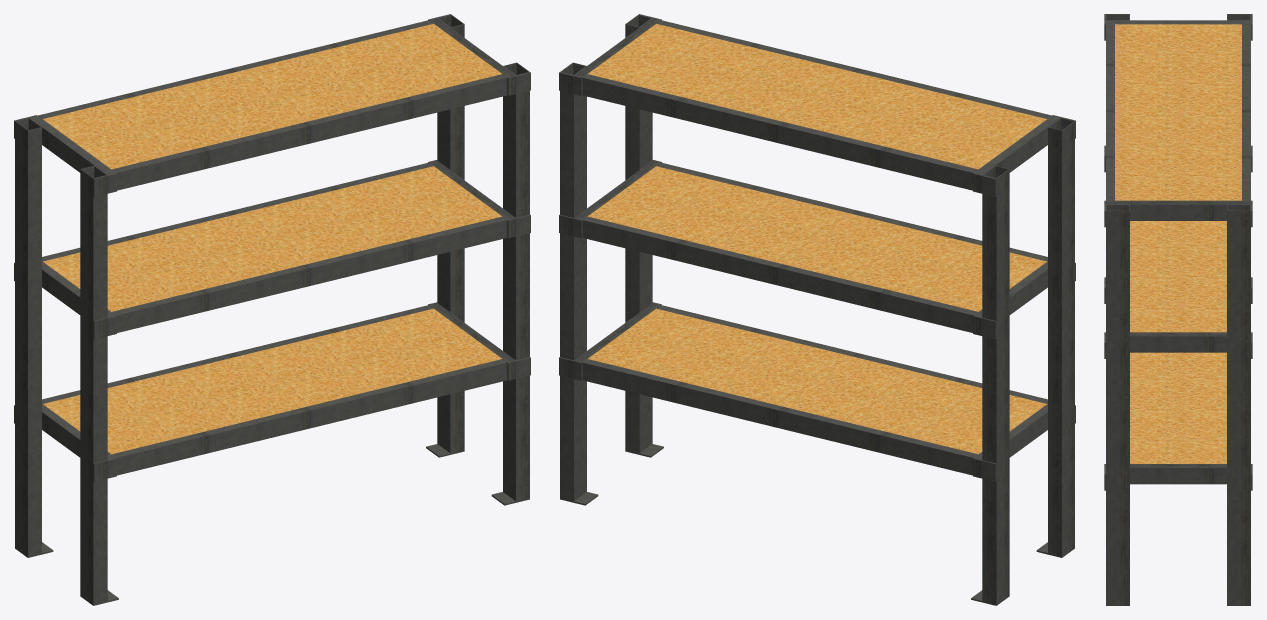
File: raca-industrial.glb
3 renders of one model, left to right at view 1: azimuth 30°, elevation 25°; view 2: azimuth 150°, elevation 25°; view 3: azimuth 270°, elevation 25°, orthographic. The views are drawn at different scales.
Visible parts, largest first — view 1: Shelf (×3), Leg (×4); view 2: Shelf (×3), Leg (×4); view 3: Shelf (×3), Leg (×2).
Boxes of the visible parts, <box> form: Shelf (×3): <box>14,14,530,481</box>; Leg (×4): <box>15,14,529,605</box>; Shelf (×3): <box>559,14,1075,481</box>; Leg (×4): <box>560,14,1074,605</box>; Shelf (×3): <box>1104,14,1252,490</box>; Leg (×2): <box>1106,204,1250,605</box>.
Bounding box in the file's own units: 1.96 × 1.83 × 0.6223.
Materials: 78 (63 with a texture image).
